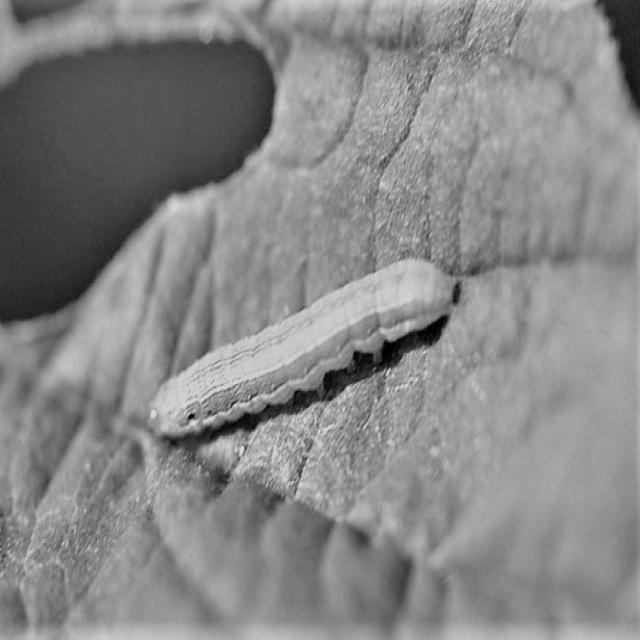Armyworm: (133, 239, 476, 470)
